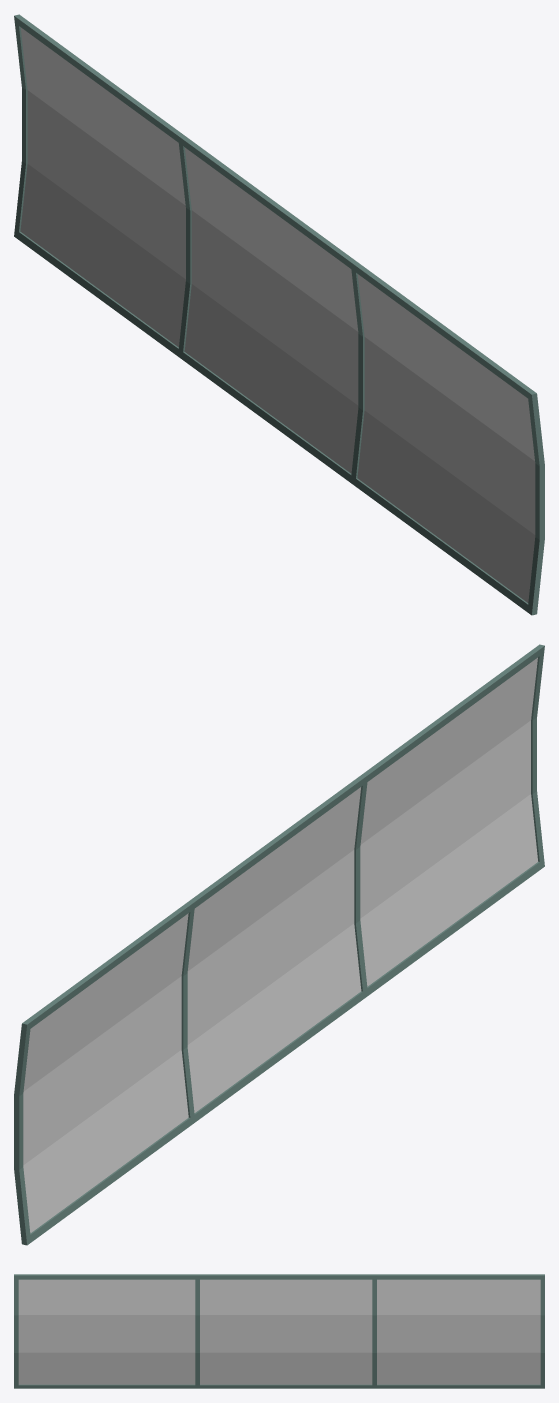
Rendered from Vetrata17x4.fbx.
3 views of the same model, one above another, from view 1: azimuth 30°, elevation 25°; view 2: azimuth 150°, elevation 25°; view 3: azimuth 270°, elevation 25° (orthographic). The views are drawn at different scales.
Parts seen in each view (by area): view 1: Vetro, Telaio; view 2: Vetro, Telaio; view 3: Vetro, Telaio.
Boxes of the visible parts, bbox=[...] form: Vetro: bbox=[20, 27, 535, 602]; Telaio: bbox=[14, 14, 544, 615]; Vetro: bbox=[23, 657, 538, 1233]; Telaio: bbox=[14, 644, 544, 1245]; Vetro: bbox=[18, 1279, 540, 1384]; Telaio: bbox=[14, 1274, 544, 1388].
Bounding box in the file's own units: 25 × 400 × 1700.
